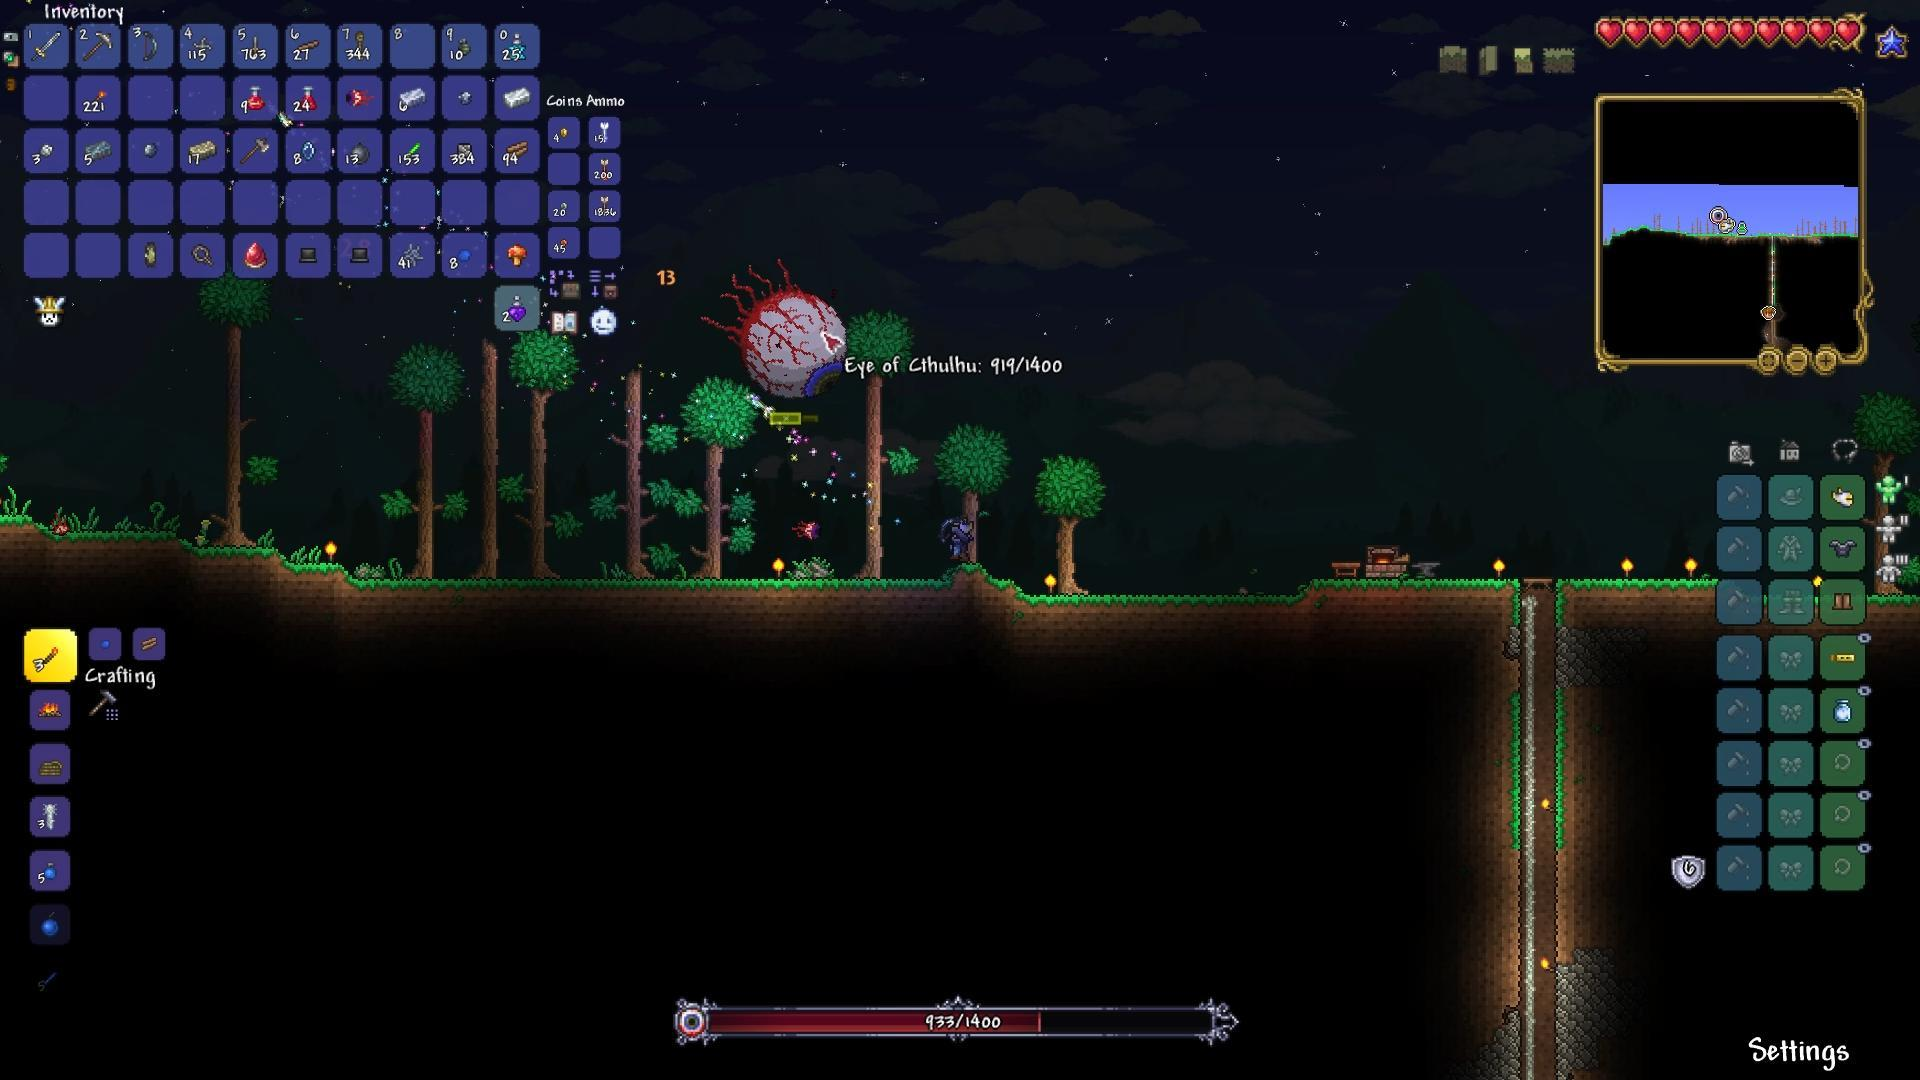eyeC: (702, 256, 852, 400)
